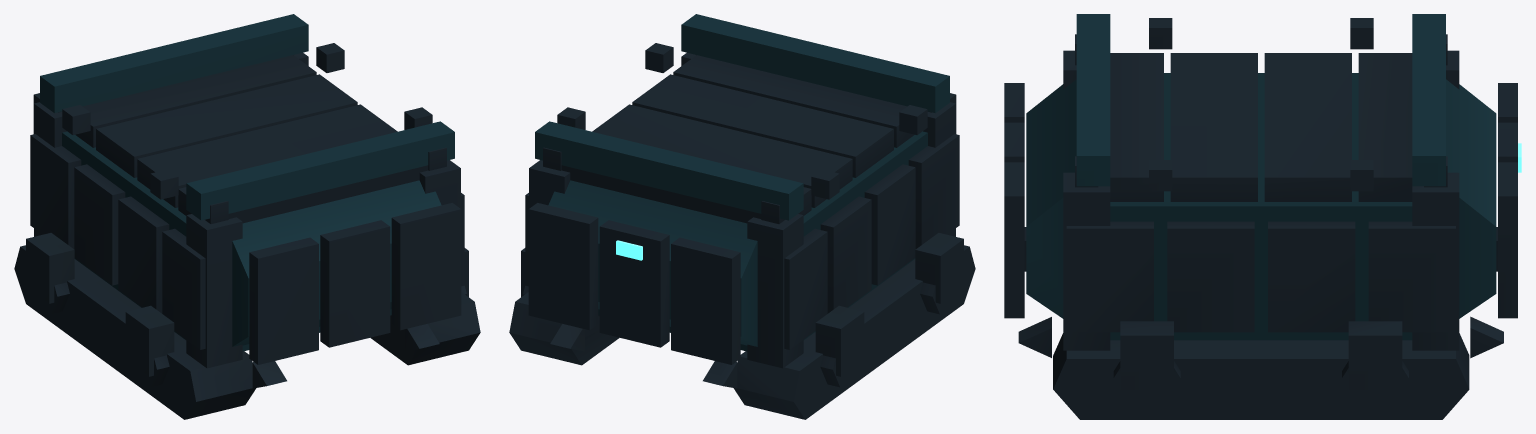
Rendered from bulwark.glb.
The picture shows the model from 3 angles, left to right: view 1: azimuth 30°, elevation 25°; view 2: azimuth 150°, elevation 25°; view 3: azimuth 270°, elevation 25°; orthographic projection. The views are drawn at different scales.
Parts seen in each view (by area): view 1: bulwark_body; view 2: bulwark_body; view 3: bulwark_body.
Part boxes in pixels (left/top/right/bottom): bulwark_body: left=14, top=14, right=480, bottom=419; bulwark_body: left=509, top=14, right=975, bottom=419; bulwark_body: left=1004, top=14, right=1521, bottom=419.
Size of the model in its own units: 1.26 by 0.84 by 1.54.
